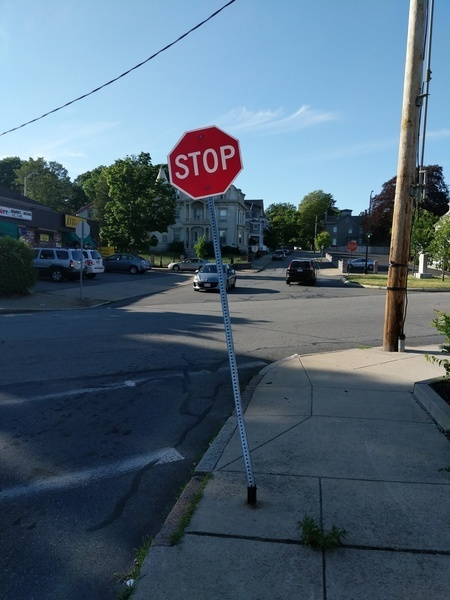stop: (169, 127, 241, 200), (170, 127, 241, 186), (168, 125, 222, 201), (170, 126, 211, 203)
